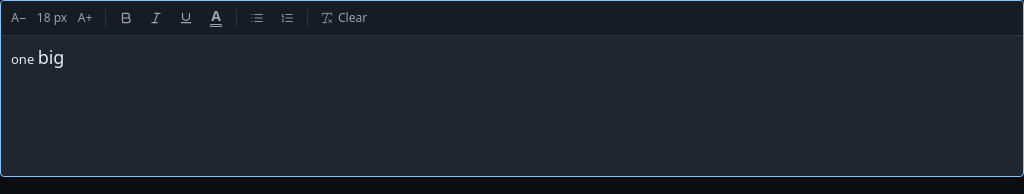
Scenario: pending size at a bare caret (A- / A+ like Word) › Clear formatting at a caret makes the next text plain (13 px, default colour)
Click the button named "Larger text" at (85, 18), box [71,5,99,31]
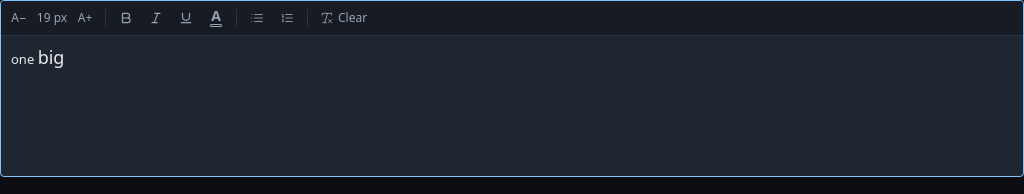
Click the button with aria-label "Clear formatting" at (344, 18), box [314,5,373,31]
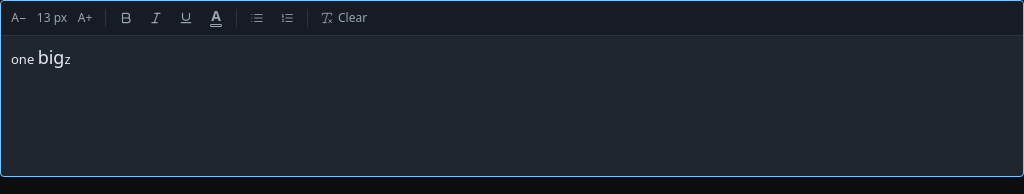
Expected: the text "13 px" is shown, [35,8,69,28]
